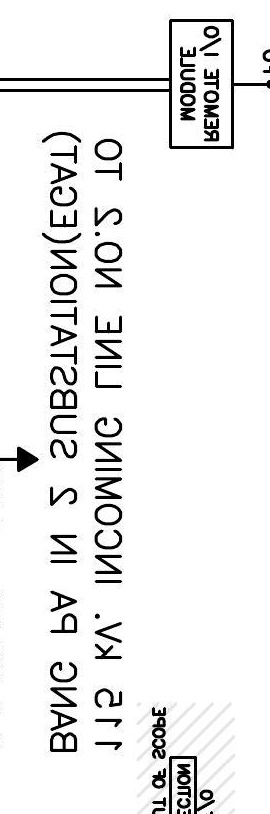remote_io_module: (169, 19, 234, 150)
